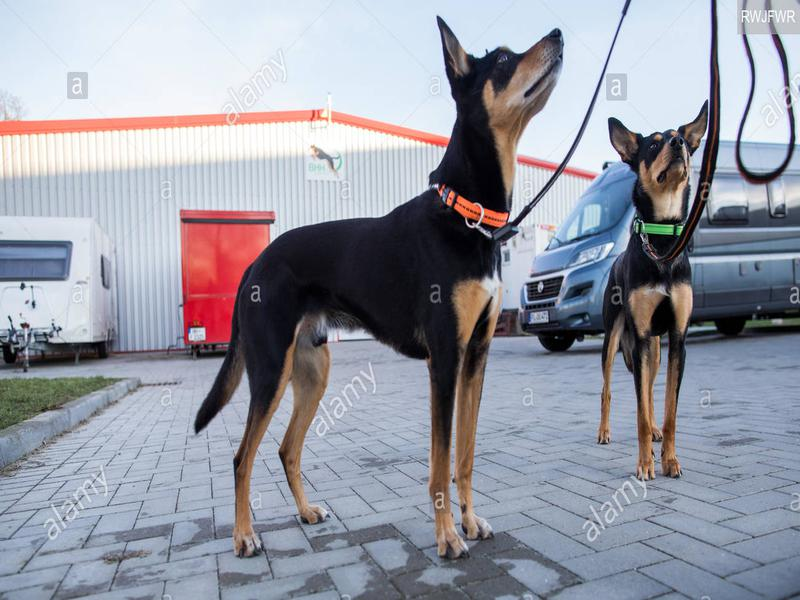dog_stand: (196, 15, 568, 567), (599, 100, 712, 482)
